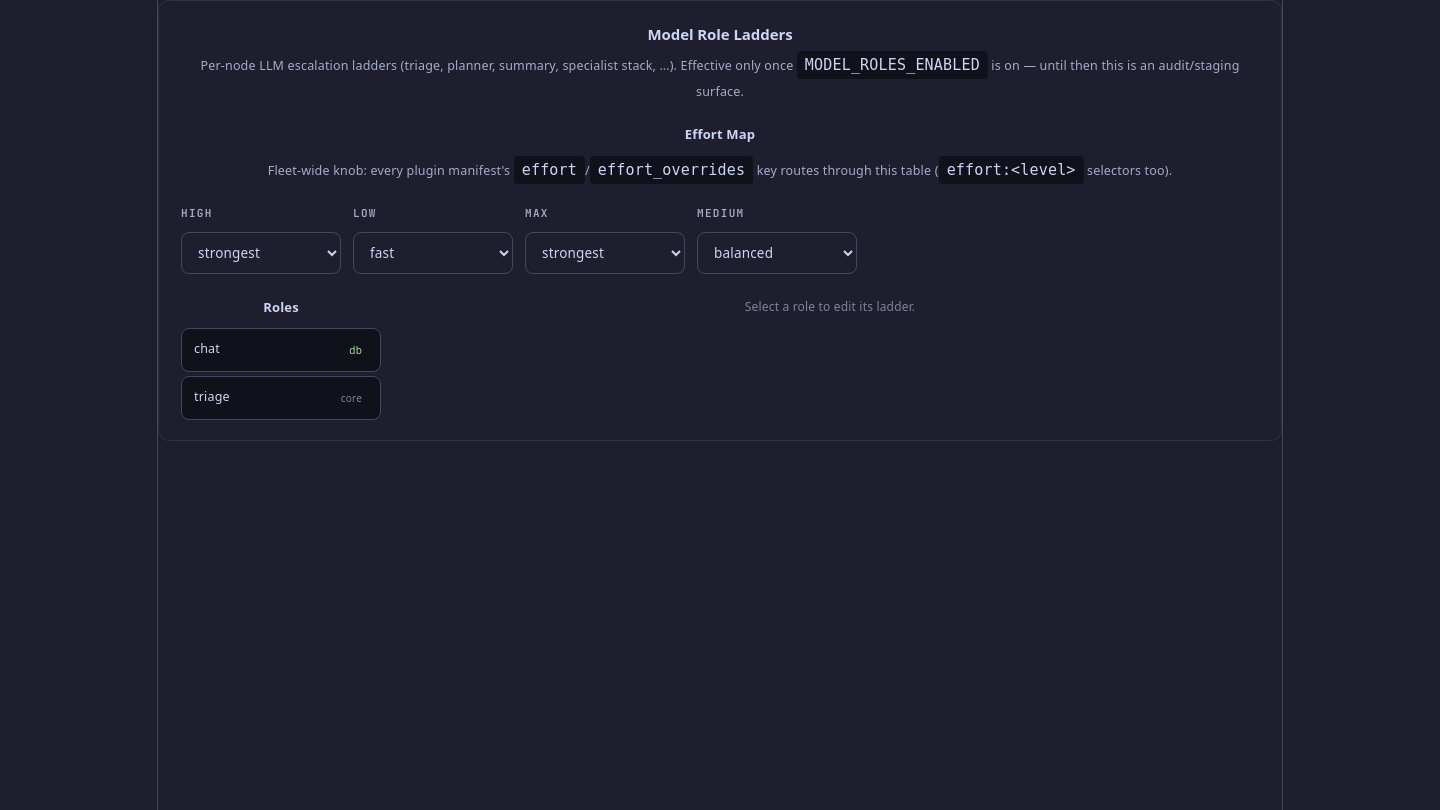
Test case: ModelRoleSection Component › renders a 400 mutation error message
Click the text "triage": (212, 397) x1=194 y1=384 x2=230 y2=410
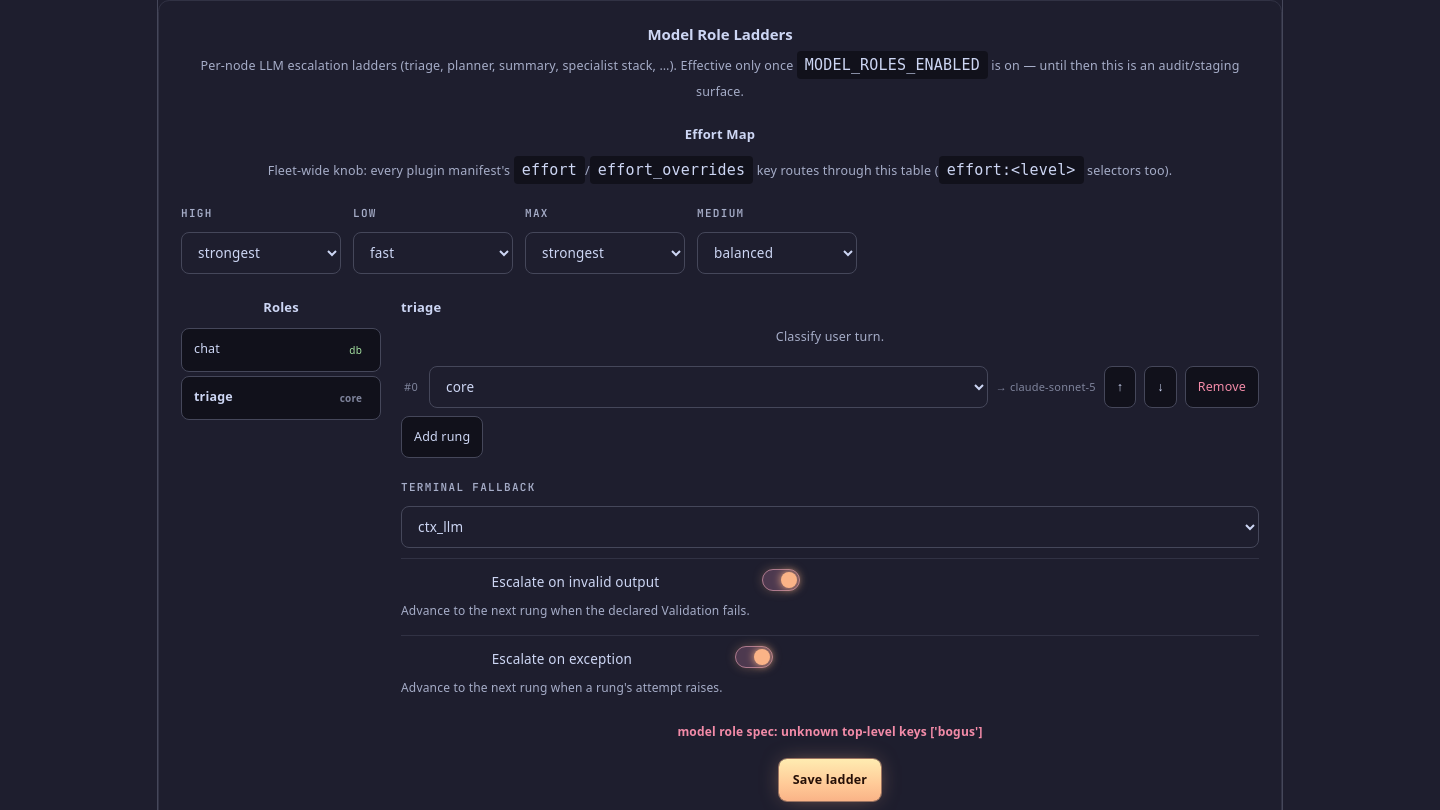
Now the text "model role spec: unknown top-level keys ['bogus']" is shown, box x1=677 y1=723 x2=983 y2=740
